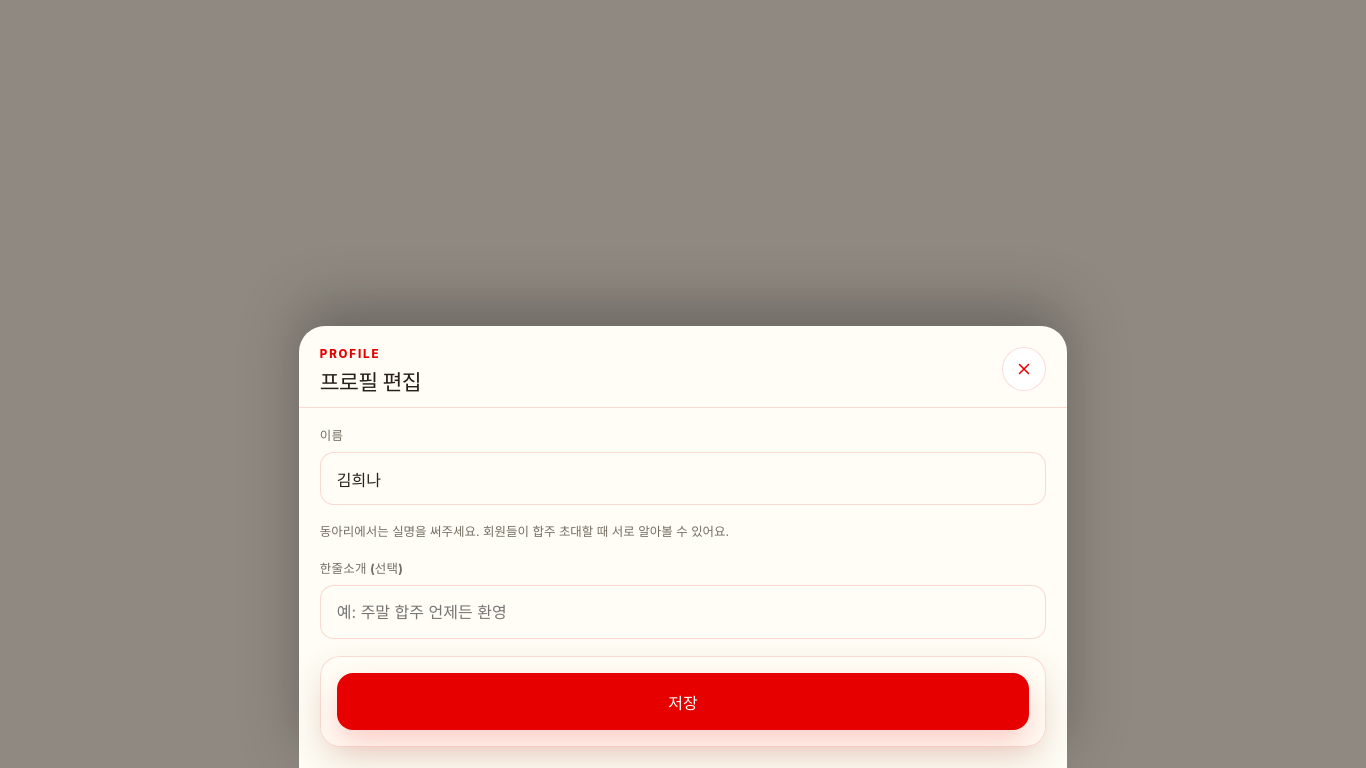
Scenario: ProfileSheet › 같은 이름의 회원이 있으면 동명이인 확인 전까지 저장할 수 없다
Replace the text in the field labelled "이름" with "이나리" at (683, 478), box [320, 452, 1046, 505]
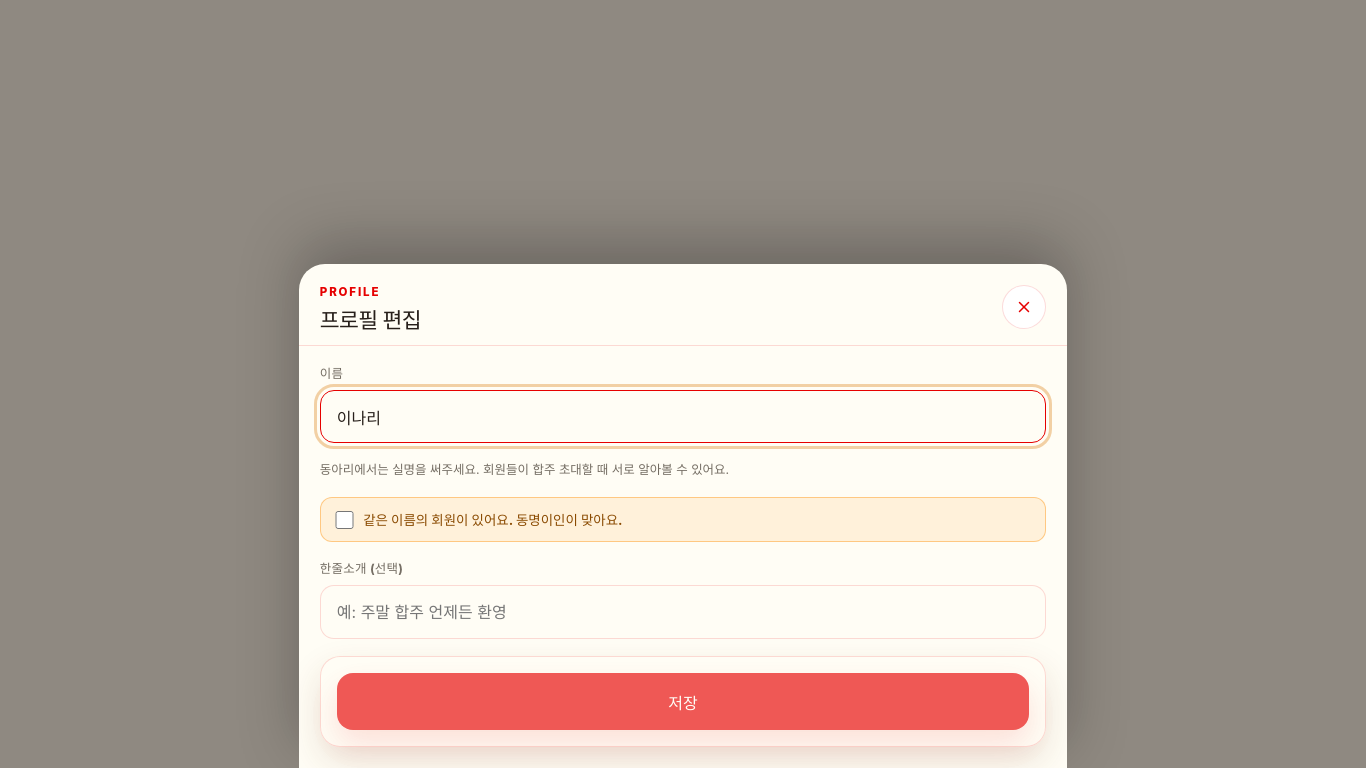
Expected: the button "저장" is disabled, [337, 673, 1029, 730]
Click the checkbox labelled "같은 이름의 회원이 있어요. 동명이인이 맞아요." at (344, 520), box [335, 511, 354, 529]
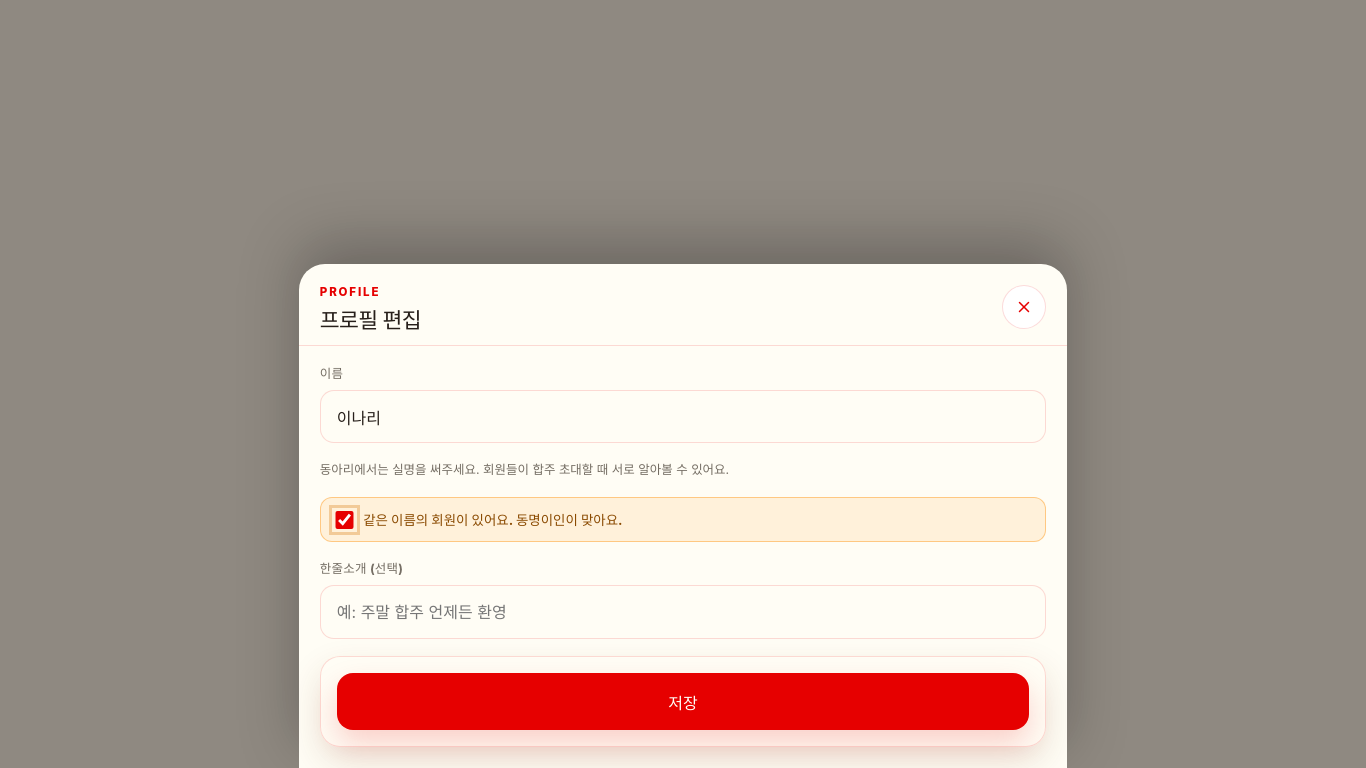
Expected: the button "저장" is enabled, [337, 673, 1029, 730]
// 이름을 다시 바꾸면 확인도 다시 받는다.
Type "2" into the field labelled "이름" at (683, 417), box [320, 390, 1046, 443]
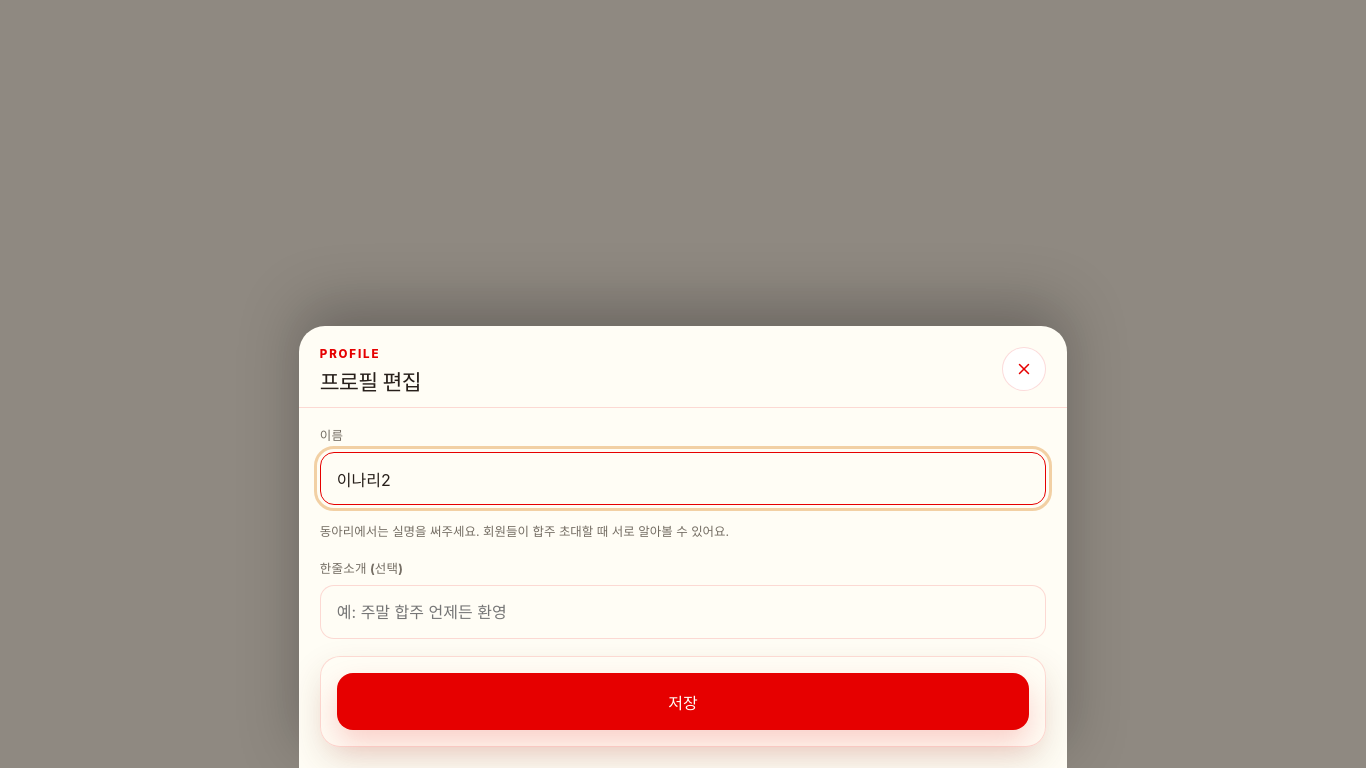
Expected: the text "동명이인" is gone
Replace the text in the field labelled "이름" with "이나리" at (683, 478), box [320, 452, 1046, 505]
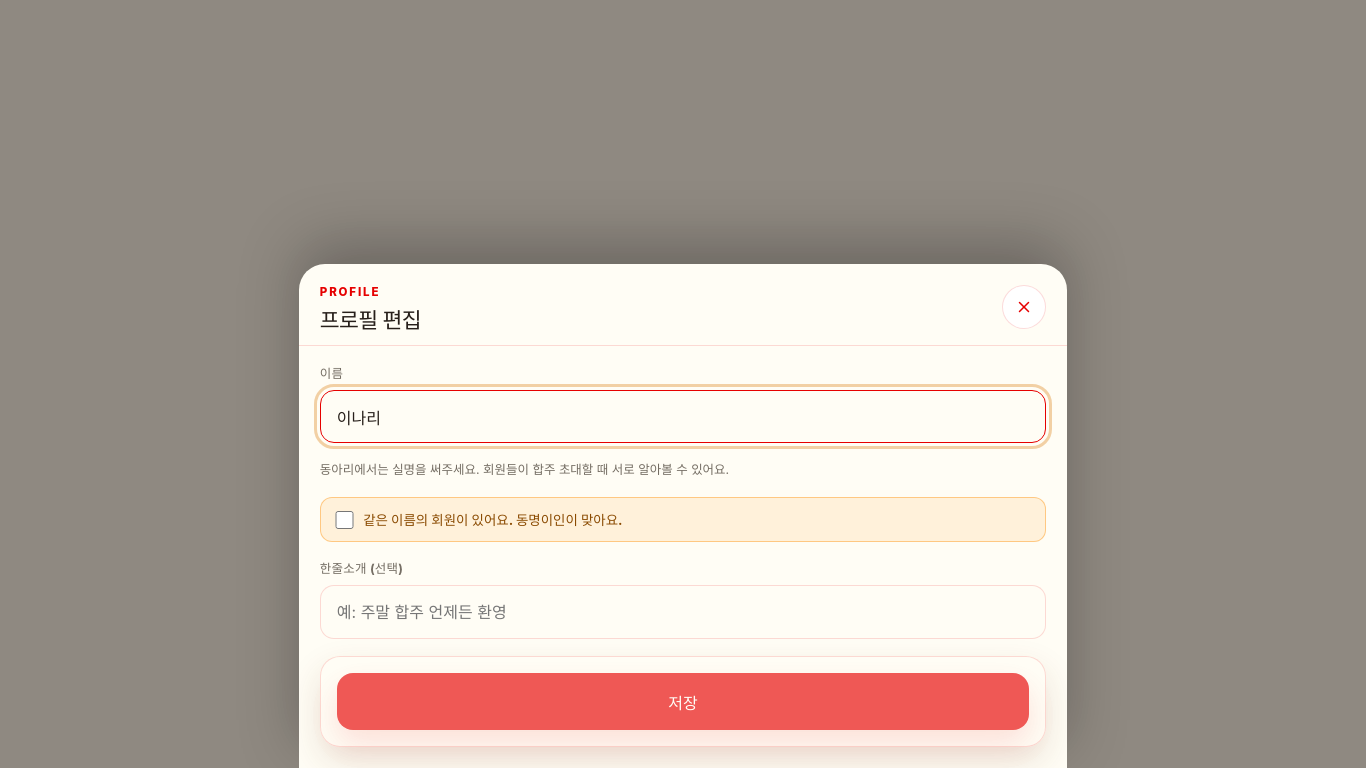
Expected: the checkbox labelled "같은 이름의 회원이 있어요. 동명이인이 맞아요." is not checked, [335, 511, 354, 529]
